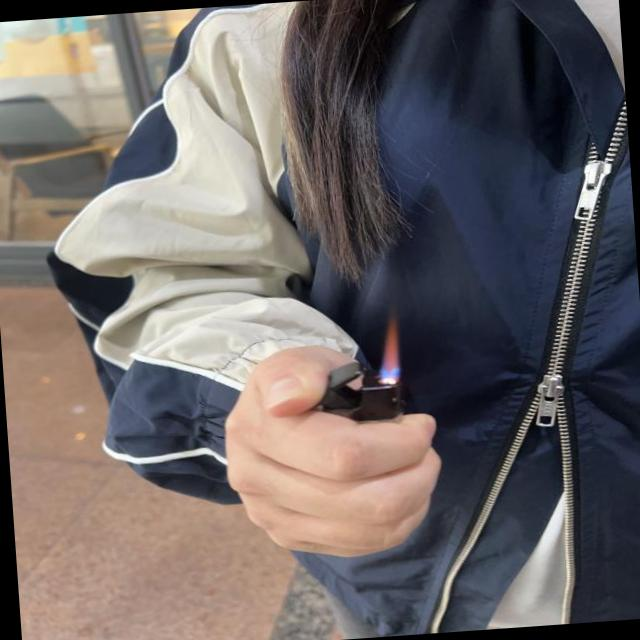Fire: (375, 310, 399, 386)
